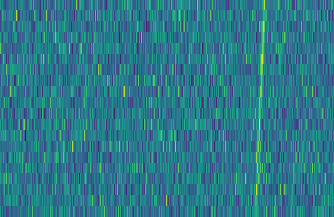signal: (252, 0, 270, 217)
